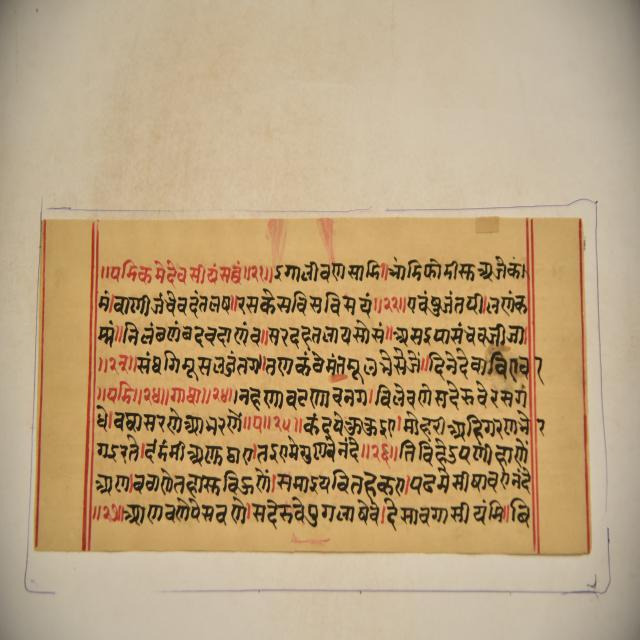text_paragraph: (35, 216, 591, 556)
